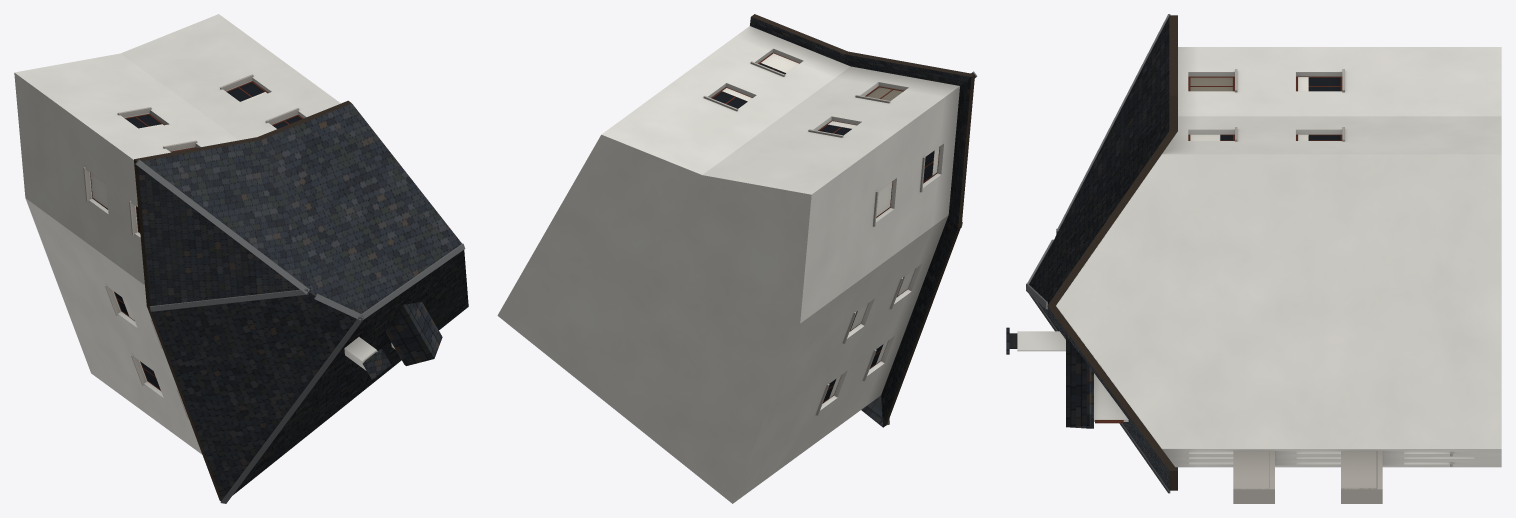
The model's file is house_b0294.obj.
3 views of the same model, side by side, from view 1: azimuth 30°, elevation 25°; view 2: azimuth 150°, elevation 25°; view 3: azimuth 270°, elevation 25° (orthographic). The views are drawn at different scales.
Visible parts, largest first — view 1: house_b0294; view 2: house_b0294; view 3: house_b0294.
Part boxes in pixels (x1=…): house_b0294: x1=14, y1=14, x2=468, y2=503; house_b0294: x1=497, y1=14, x2=977, y2=503; house_b0294: x1=1006, y1=14, x2=1501, y2=503.
Bounding box in the file's own units: 12.62 × 13.37 × 13.81.
Materials: 1 (1 with a texture image).
